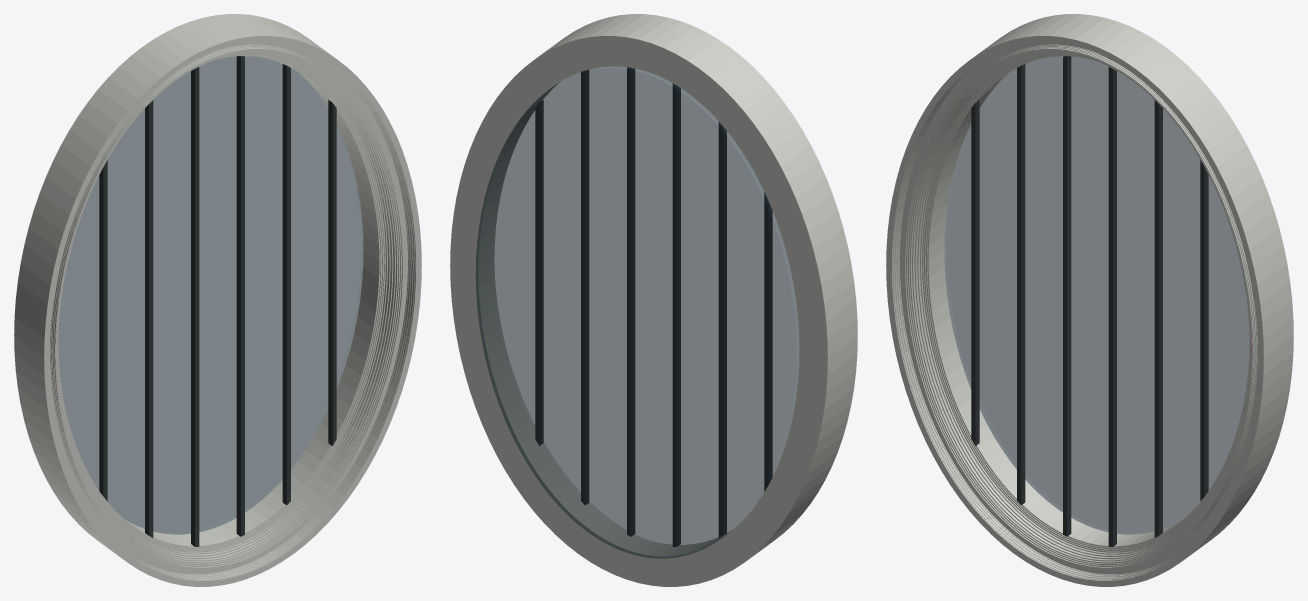
Rendered from republicano_ellipse_con_reja.glb.
3 renders of one model, left to right at view 1: azimuth 30°, elevation 25°; view 2: azimuth 150°, elevation 25°; view 3: azimuth 330°, elevation 25°, orthographic.
Parts seen in each view (by area): view 1: window_glass#0001, window_grille#0001, window_reveal#0001, window_profile#0028, window_profile#0001, window_profile#0025, window_profile#0027, window_profile#0026, window_profile#0012, window_profile#0009, window_profile#0011, window_profile#0008 (+19 smaller); view 2: window_glass#0001, window_reveal#0001, window_grille#0001, window_profile#0028, window_profile#0001; view 3: window_glass#0001, window_grille#0001, window_profile#0028, window_reveal#0001, window_profile#0001, window_profile#0025, window_profile#0027, window_profile#0026, window_profile#0012, window_profile#0009, window_profile#0011, window_profile#0008 (+19 smaller).
Part boxes in pixels (x1,y1,x2,y2): window_glass#0001: [58, 56, 363, 534]; window_grille#0001: [99, 56, 336, 546]; window_reveal#0001: [14, 14, 375, 546]; window_profile#0028: [25, 22, 421, 586]; window_profile#0001: [58, 55, 380, 547]; window_profile#0025: [48, 40, 417, 582]; window_profile#0027: [45, 37, 420, 585]; window_profile#0026: [47, 39, 418, 583]; window_profile#0012: [55, 49, 403, 568]; window_profile#0009: [57, 52, 398, 563]; window_profile#0011: [56, 50, 401, 566]; window_profile#0008: [68, 52, 395, 561]; window_glass#0001: [475, 66, 799, 558]; window_reveal#0001: [450, 26, 840, 586]; window_grille#0001: [535, 67, 772, 546]; window_profile#0028: [547, 14, 857, 551]; window_profile#0001: [490, 84, 730, 548]; window_glass#0001: [944, 56, 1249, 534]; window_grille#0001: [971, 56, 1208, 546]; window_profile#0028: [886, 22, 1282, 586]; window_reveal#0001: [932, 14, 1293, 546]; window_profile#0001: [927, 55, 1249, 547]; window_profile#0025: [890, 40, 1259, 582]; window_profile#0027: [887, 37, 1262, 585]; window_profile#0026: [889, 39, 1260, 583]; window_profile#0012: [904, 49, 1252, 568]; window_profile#0009: [909, 52, 1250, 563]; window_profile#0011: [906, 50, 1251, 566]; window_profile#0008: [912, 52, 1239, 561].
Bounding box in the file's own units: 1.6 × 2.2 × 0.24.
